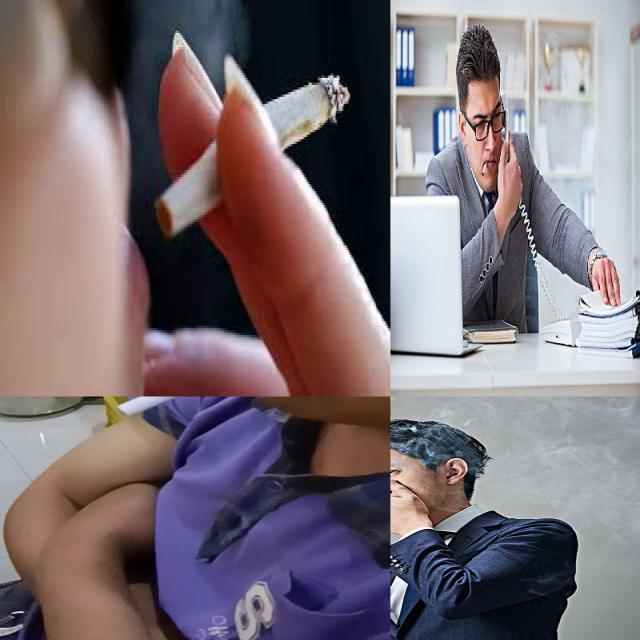smoke: (157, 74, 350, 238), (116, 396, 282, 416), (479, 156, 488, 180)
